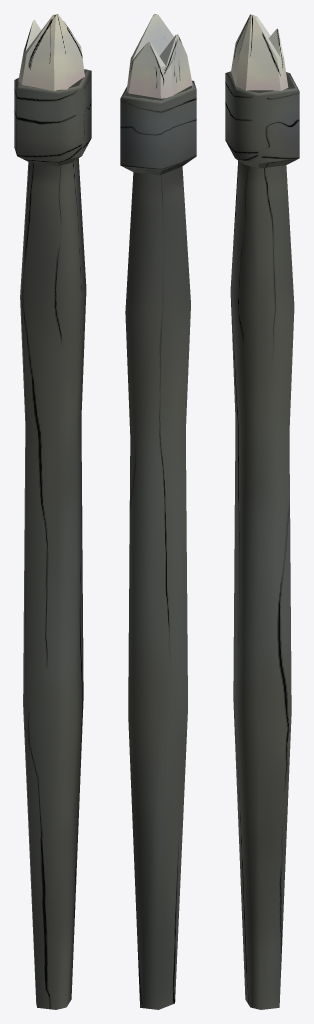
The model's file is Torch.fbx.
3 renders of one model, left to right at view 1: azimuth 30°, elevation 25°; view 2: azimuth 210°, elevation 25°; view 3: azimuth 330°, elevation 25°, orthographic.
Parts seen in each view (by area): view 1: torch_proper, flame; view 2: torch_proper, flame; view 3: torch_proper, flame.
Boxes of the visible parts, x1,y1,x2,y2 form: torch_proper: (14, 69, 91, 1009); flame: (18, 14, 84, 91); torch_proper: (120, 80, 196, 1009); flame: (127, 14, 192, 98); torch_proper: (225, 71, 299, 1009); flame: (231, 14, 288, 90).
Bounding box in the file's own units: 19.84 × 252 × 14.83.
